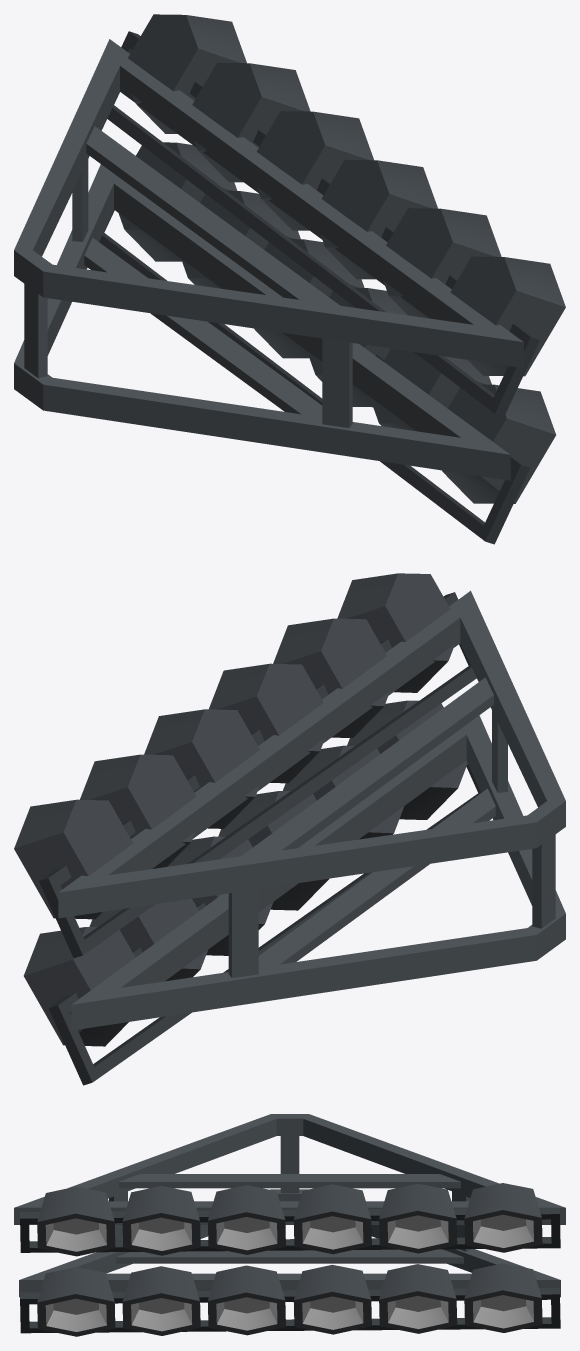
File: SM_Prop_Pole_Large_Lights_02.fbx
3 renders of one model, top to bottom at view 1: azimuth 30°, elevation 25°; view 2: azimuth 150°, elevation 25°; view 3: azimuth 270°, elevation 25°, orthographic. The views are drawn at different scales.
Parts seen in each view (by area): view 1: SM_Prop_Pole_Large_Lights_02; view 2: SM_Prop_Pole_Large_Lights_02; view 3: SM_Prop_Pole_Large_Lights_02.
Boxes of the visible parts, <box> form: SM_Prop_Pole_Large_Lights_02: <box>14,14,565,544</box>; SM_Prop_Pole_Large_Lights_02: <box>14,573,565,1085</box>; SM_Prop_Pole_Large_Lights_02: <box>14,1114,565,1336</box>.
Bounding box in the file's own units: 269 × 178 × 530.
